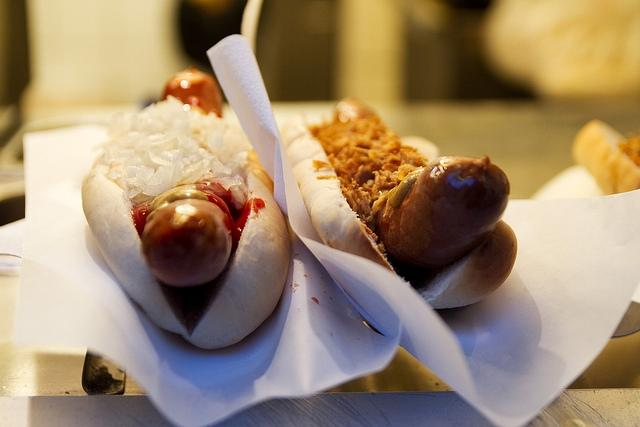onion: (172, 158, 212, 188), (221, 130, 241, 162), (201, 126, 224, 153), (230, 185, 247, 209), (204, 112, 218, 141), (153, 130, 181, 143), (217, 176, 241, 190), (147, 121, 171, 134), (230, 152, 249, 168), (177, 136, 197, 150), (144, 153, 160, 170), (167, 94, 184, 110), (183, 142, 199, 158), (138, 102, 156, 116), (211, 157, 224, 174), (191, 119, 205, 134), (220, 116, 230, 137), (198, 151, 220, 160), (94, 163, 110, 175), (142, 168, 155, 182), (126, 166, 140, 178), (216, 165, 232, 175), (120, 148, 136, 158), (109, 168, 122, 180), (136, 140, 148, 152), (192, 134, 208, 143), (173, 152, 183, 165), (125, 156, 138, 166), (172, 119, 190, 126), (125, 177, 136, 187), (154, 149, 163, 157), (127, 131, 139, 137), (182, 115, 190, 120)
